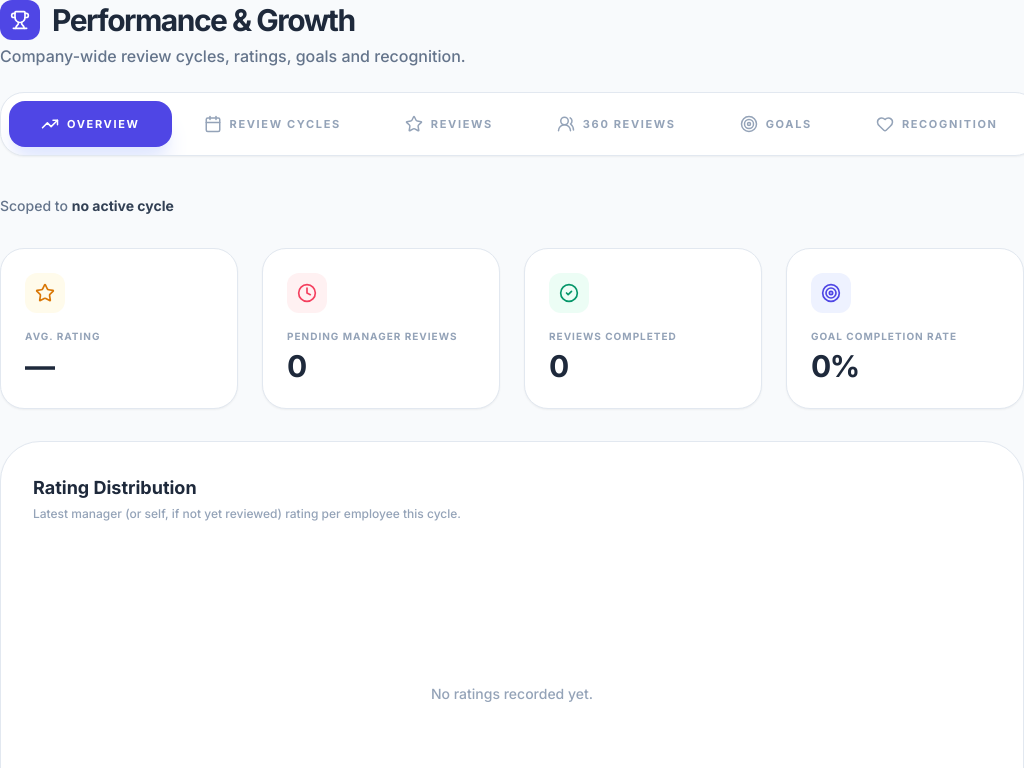
Test: PerformanceManagement (admin) › Review Cycles tab › creates a cycle and closes the modal on success
Click the button "Review Cycles".
click(272, 124)  # box [172,101,373,147]
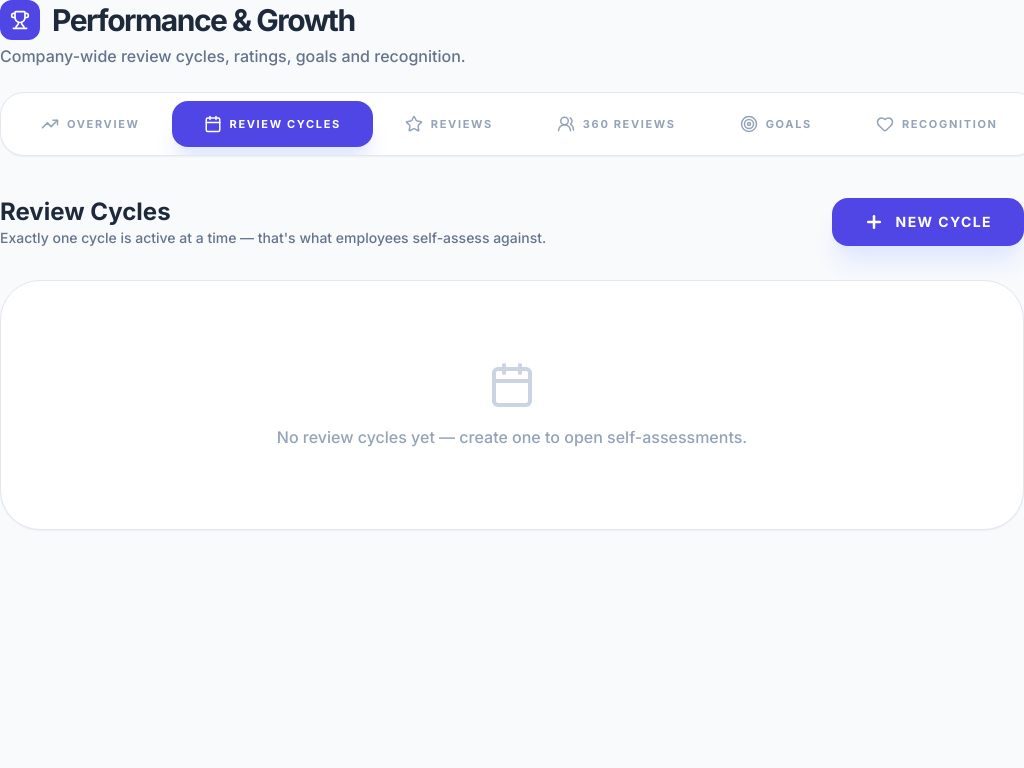
Click the button "New Cycle".
click(928, 222)  # box [832,198,1023,246]
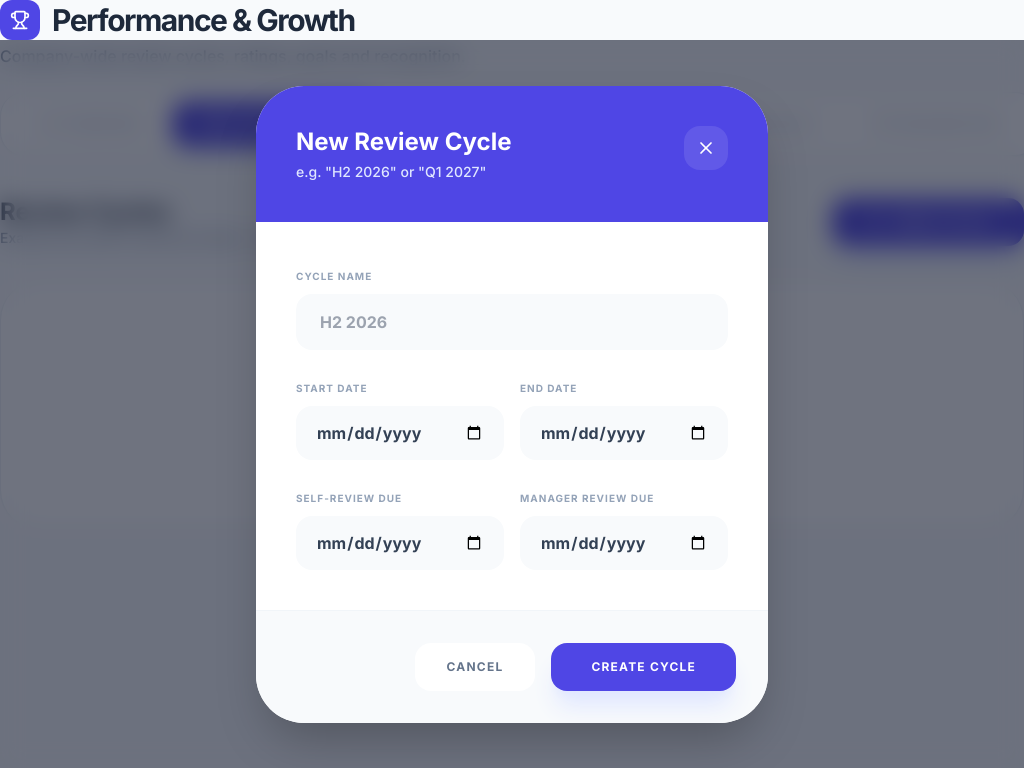
Type "H1 2026" into the field with placeholder "H2 2026".
click(512, 322); type("H1 2026")  # box [296,294,728,350]
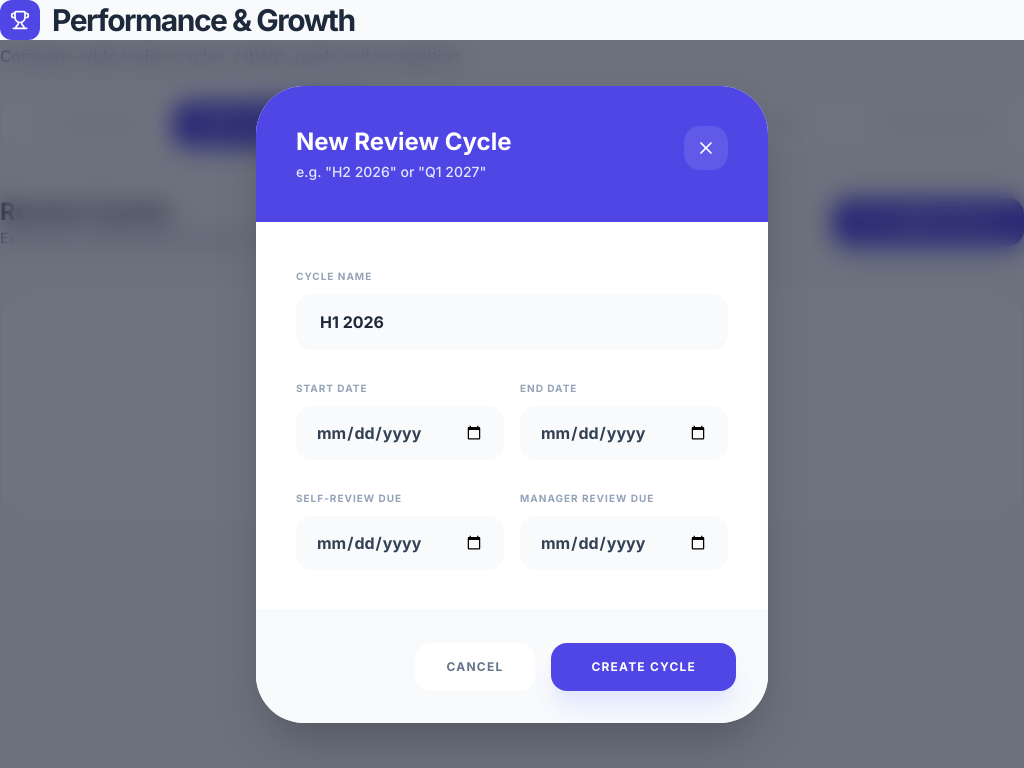
Click the button "Create Cycle".
click(644, 666)  # box [551,642,736,690]
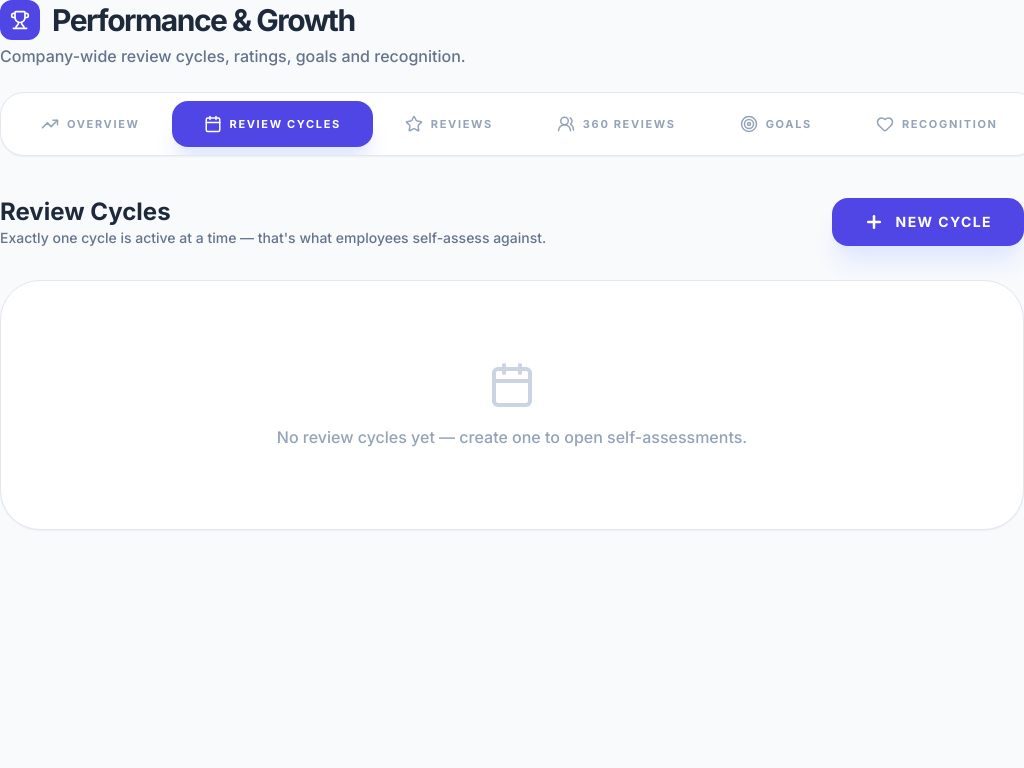
Now the heading "New Review Cycle" is gone
